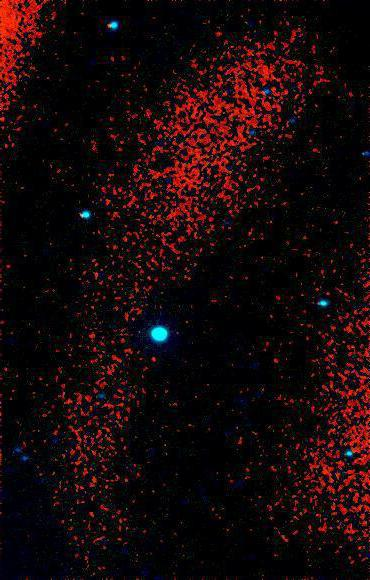star: (140, 345, 170, 375)
